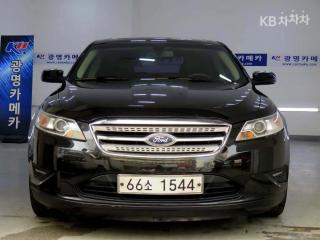1: (159, 178, 167, 192)
4: (186, 178, 196, 192), (178, 178, 187, 191)
5: (167, 178, 178, 192)
6: (135, 177, 144, 192), (126, 178, 135, 192)
소: (143, 178, 155, 192)
